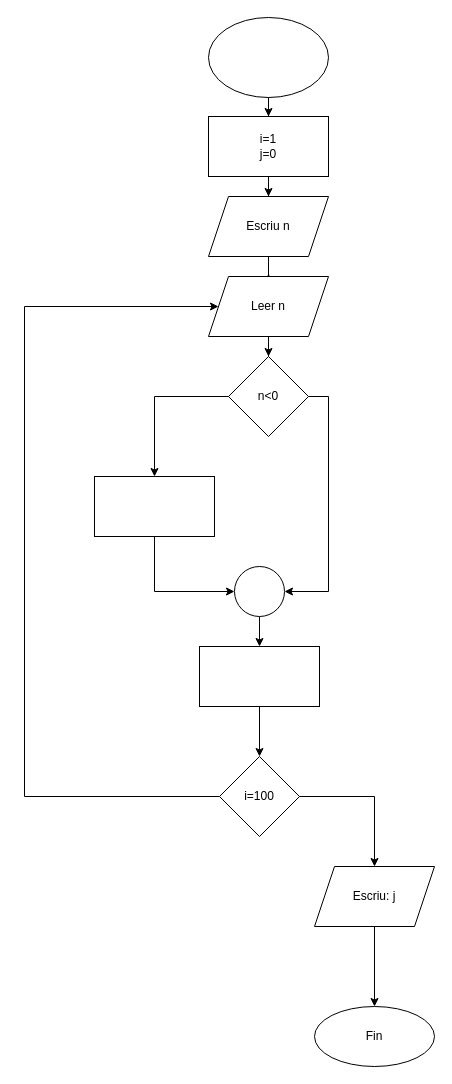
Image size: 452x1084. Some labels were removed from this diagram. The shapes that lost their labels are listed below. From the top down, each one's centre as x and y in pixels, then its label:
(x=268, y=57): Inici
(x=154, y=506): j++
(x=259, y=676): i++
